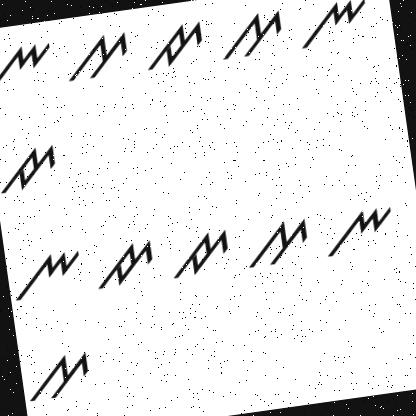ja: (89, 231, 162, 294), (166, 223, 238, 286), (139, 16, 210, 74), (0, 135, 63, 197)
nya: (318, 195, 399, 265), (7, 242, 86, 305), (294, 0, 372, 50), (0, 34, 57, 97)
sa: (60, 28, 136, 92), (21, 343, 99, 404), (241, 207, 313, 272), (216, 7, 289, 63)
